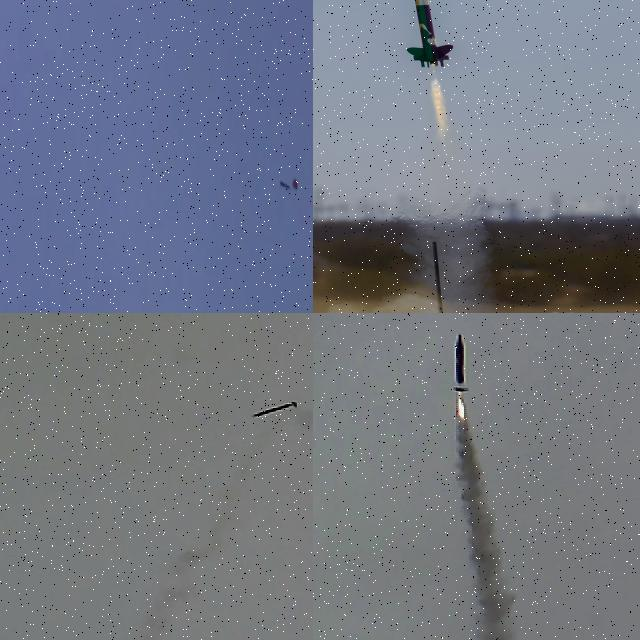Rocket: (404, 0, 453, 67), (451, 332, 470, 393), (252, 399, 299, 418), (280, 180, 290, 190)
